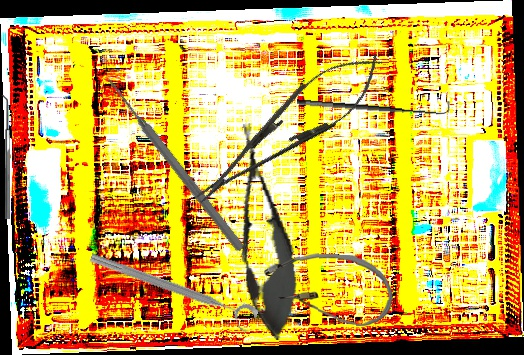Cannula: (261, 250, 395, 328)
Fixation Ring: (84, 247, 260, 337)
Hook Surgical: (296, 87, 451, 120)
Micro Scissor: (218, 118, 308, 345)
Needle Holder: (180, 36, 396, 221)
Pusher: (102, 74, 248, 254)
Spatula Surgical: (0, 95, 10, 219)
